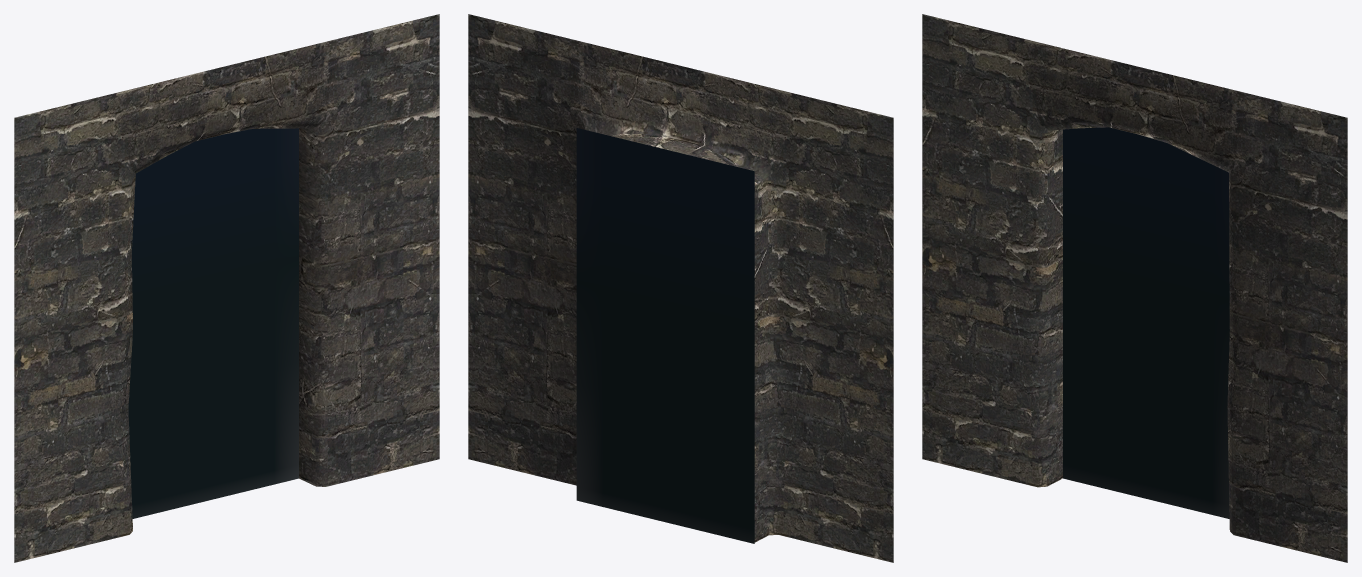
File: factory_facade_doorsealed.DAE
The picture shows the model from 3 angles, left to right: view 1: azimuth 30°, elevation 25°; view 2: azimuth 150°, elevation 25°; view 3: azimuth 330°, elevation 25°; orthographic projection.
Parts seen in each view (by area): view 1: Object090, Object092; view 2: Object090, Object092; view 3: Object090, Object092.
Part boxes in pixels (bbox=[...]): Object090: bbox=[14, 14, 439, 562]; Object092: bbox=[128, 128, 298, 518]; Object090: bbox=[468, 14, 893, 562]; Object092: bbox=[576, 128, 754, 543]; Object090: bbox=[922, 14, 1347, 562]; Object092: bbox=[1063, 127, 1229, 518].
Bounding box in the file's own units: 4 × 4 × 0.25.
